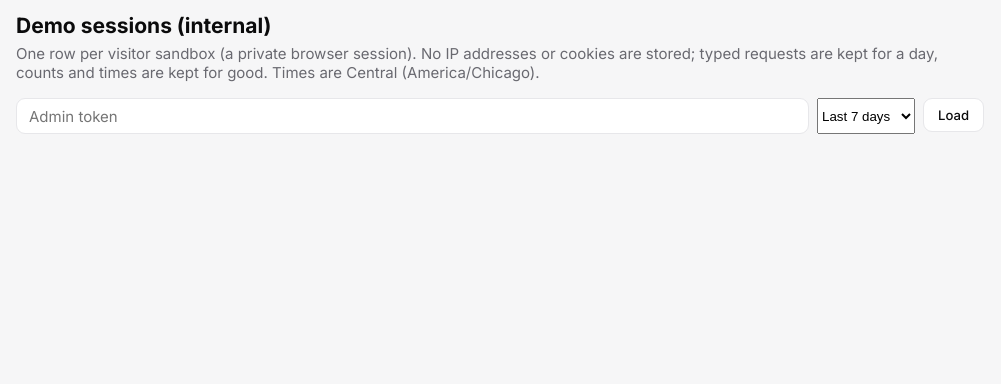
Scenario: SessionsView › sends the token as a header (not in the URL) and renders sessions in Central time
Type "tok-123" into the password field with placeholder "Admin token" at [412, 116], box [16,98,809,134]
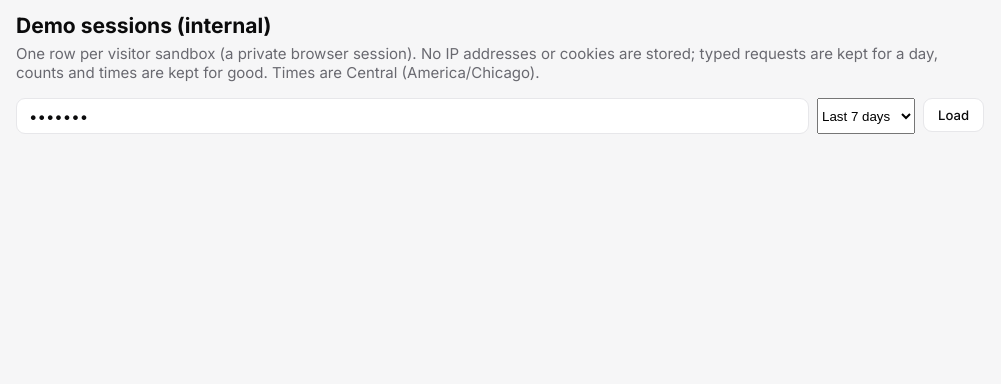
Click the button "Load" at [954, 115], box [923,98,984,132]
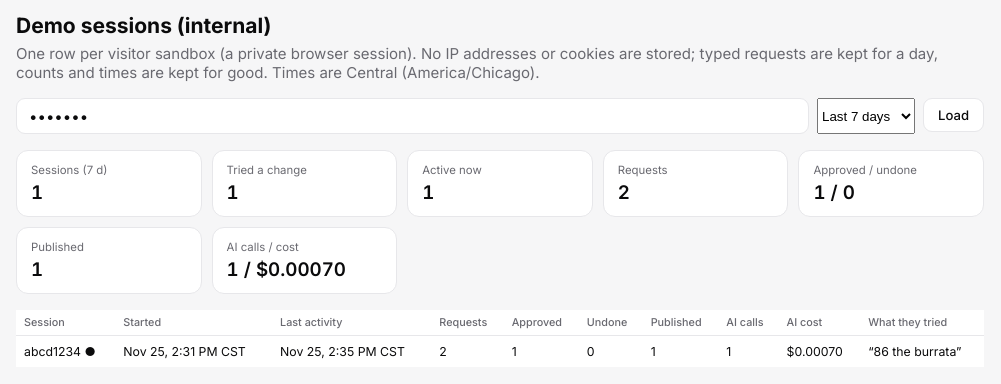
Expected: the text "abcd1234 ●" is shown, [16,336,115,367]
Expected: the text "Nov 25, 2:31 PM CST" is shown, [115,336,272,367]
Expected: the text "“86 the burrata”" is shown, [860,336,984,367]
